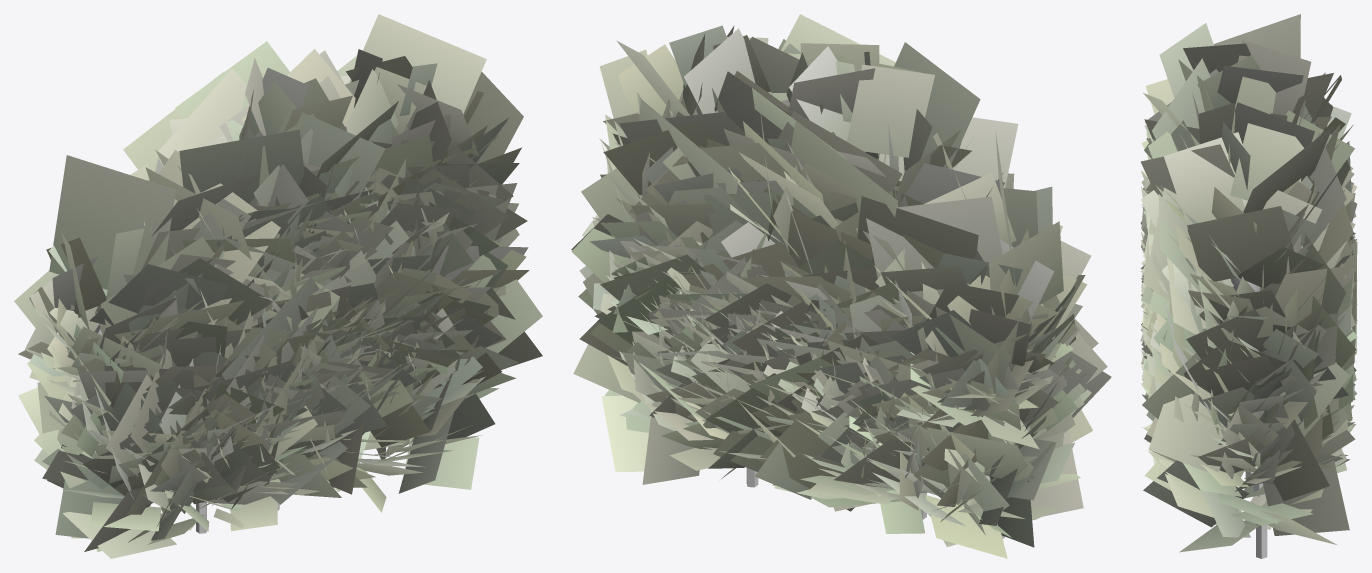
Rendered from hedge_short.glb.
The picture shows the model from 3 angles, left to right: view 1: azimuth 30°, elevation 25°; view 2: azimuth 150°, elevation 25°; view 3: azimuth 270°, elevation 25°; orthographic projection. The views are drawn at different scales.
Visible parts, largest first — view 1: hedge_short; view 2: hedge_short; view 3: hedge_short.
Part boxes in pixels (<box>): hedge_short: <box>14,14,542,558</box>; hedge_short: <box>571,14,1111,558</box>; hedge_short: <box>1140,14,1357,558</box>.
Size of the model in its own units: 2.92 by 2.76 by 1.27.
